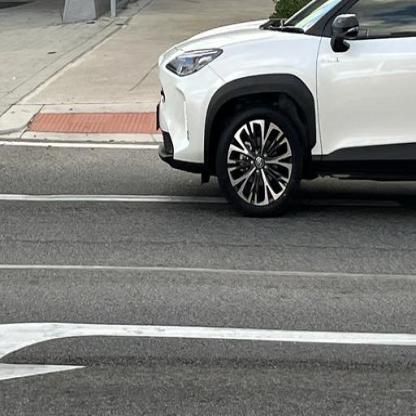Tire: (217, 105, 303, 218)
